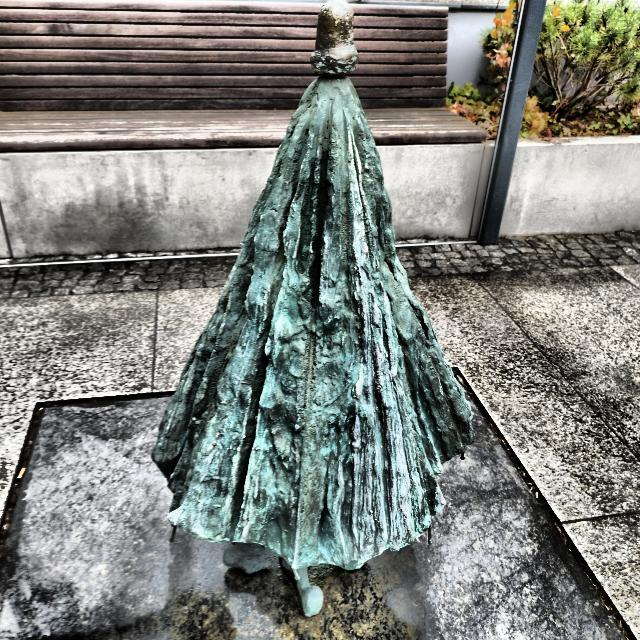Parasolniki: (151, 0, 477, 618)
